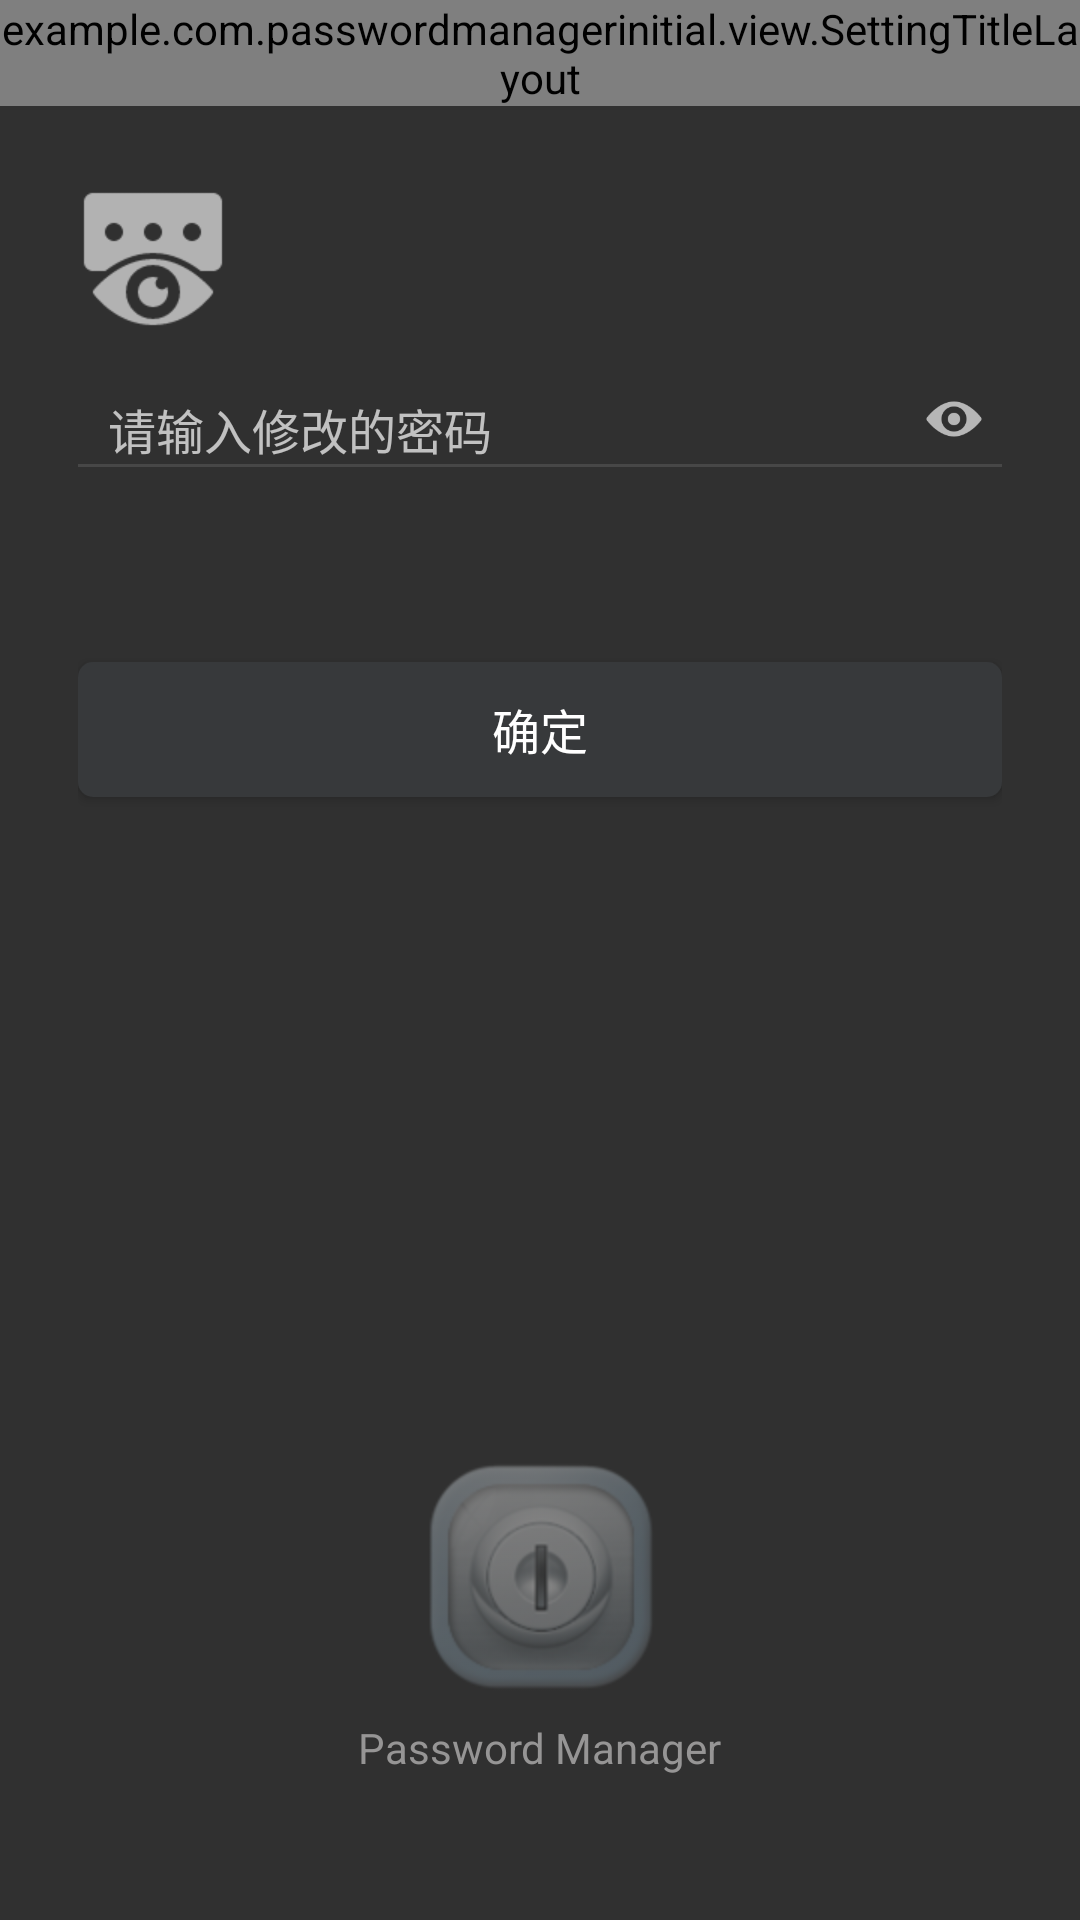

Locate icon controls on the screen. Image size 1080x1920, boxes as (x1, y1, x2, y2).
eye: (926, 401, 982, 437)
